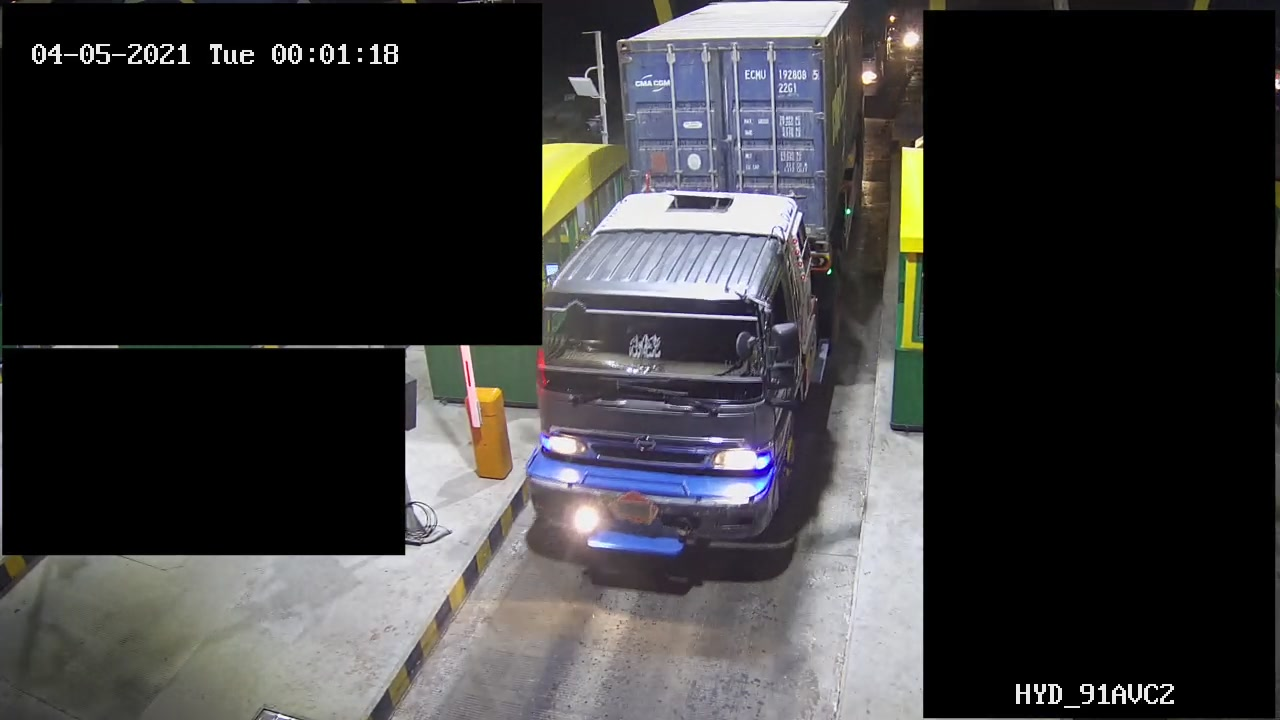F6: (527, 1, 870, 573)
